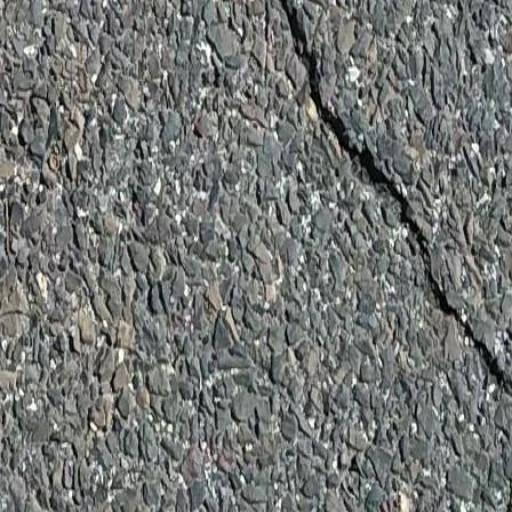spalling: (274, 6, 510, 407)
